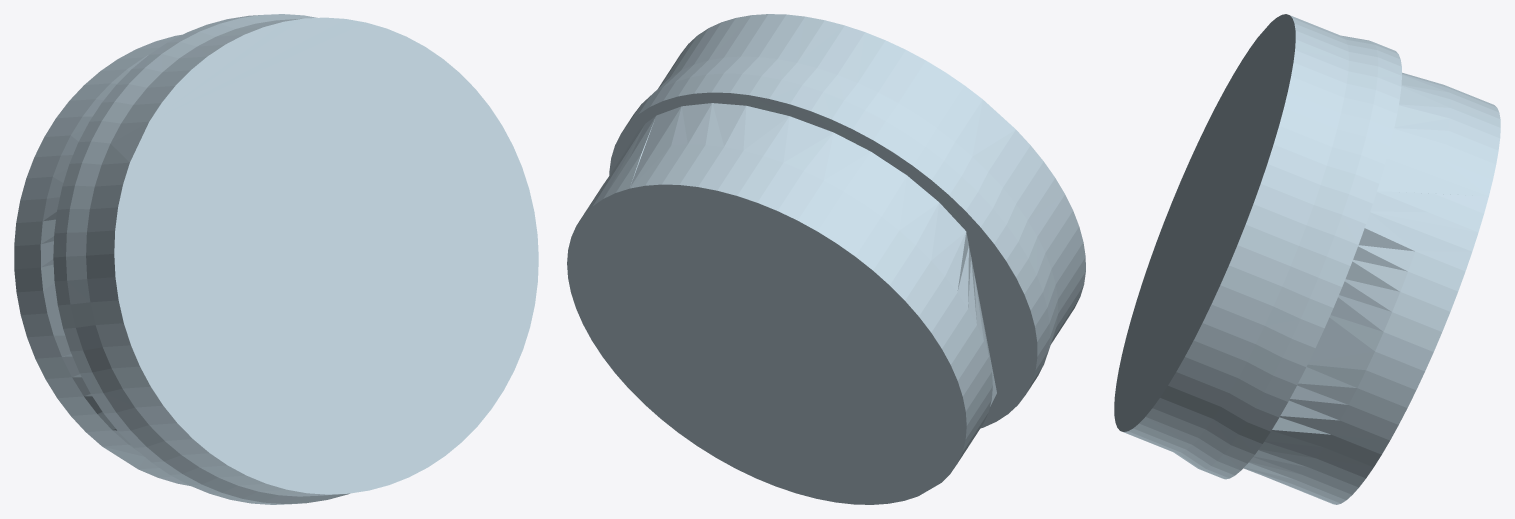
Rendered from right_wrist_z_link_visual_2.obj.light.glb.
3 renders of one model, left to right at view 1: azimuth 30°, elevation 25°; view 2: azimuth 150°, elevation 25°; view 3: azimuth 270°, elevation 25°, orthographic. The views are drawn at different scales.
Bounding box in the file's own units: 0.125 × 0.1331 × 0.1047.
